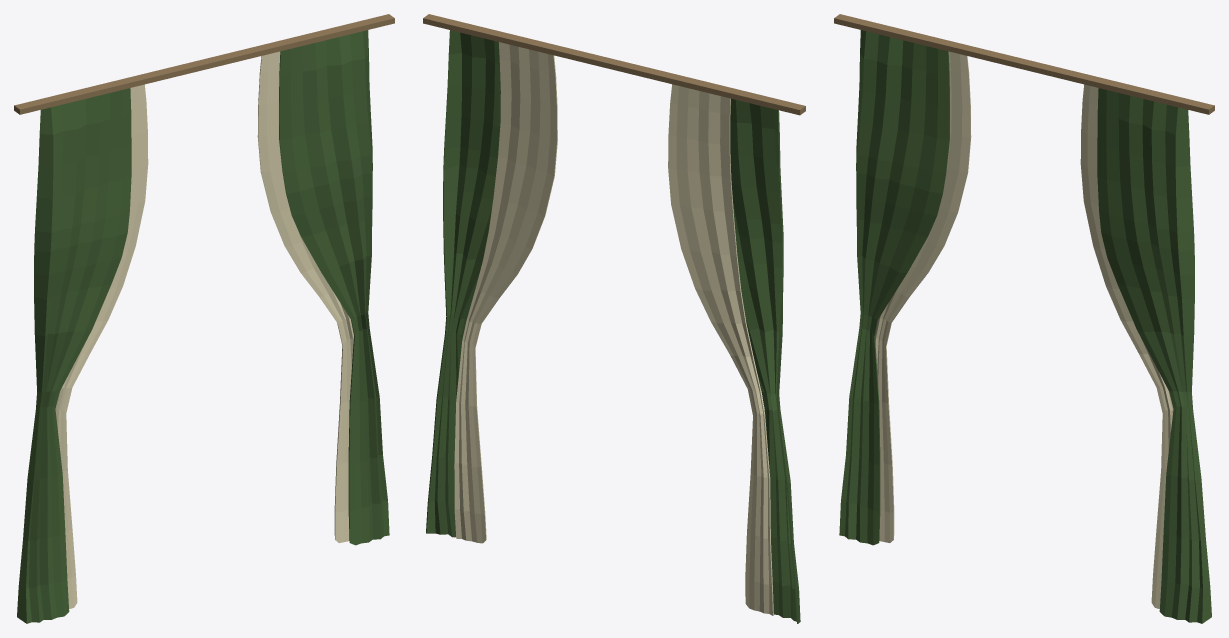
The model's file is Curtain_set.fbx.
3 renders of one model, left to right at view 1: azimuth 30°, elevation 25°; view 2: azimuth 150°, elevation 25°; view 3: azimuth 330°, elevation 25°, orthographic.
Visible parts, largest first — view 1: Curtain_set; view 2: Curtain_set; view 3: Curtain_set.
Boxes of the visible parts, x1=… form: Curtain_set: x1=14, y1=14, x2=394, y2=623; Curtain_set: x1=423, y1=14, x2=805, y2=623; Curtain_set: x1=834, y1=14, x2=1214, y2=623.
Size of the model in its own units: 150 by 197 by 7.14.
